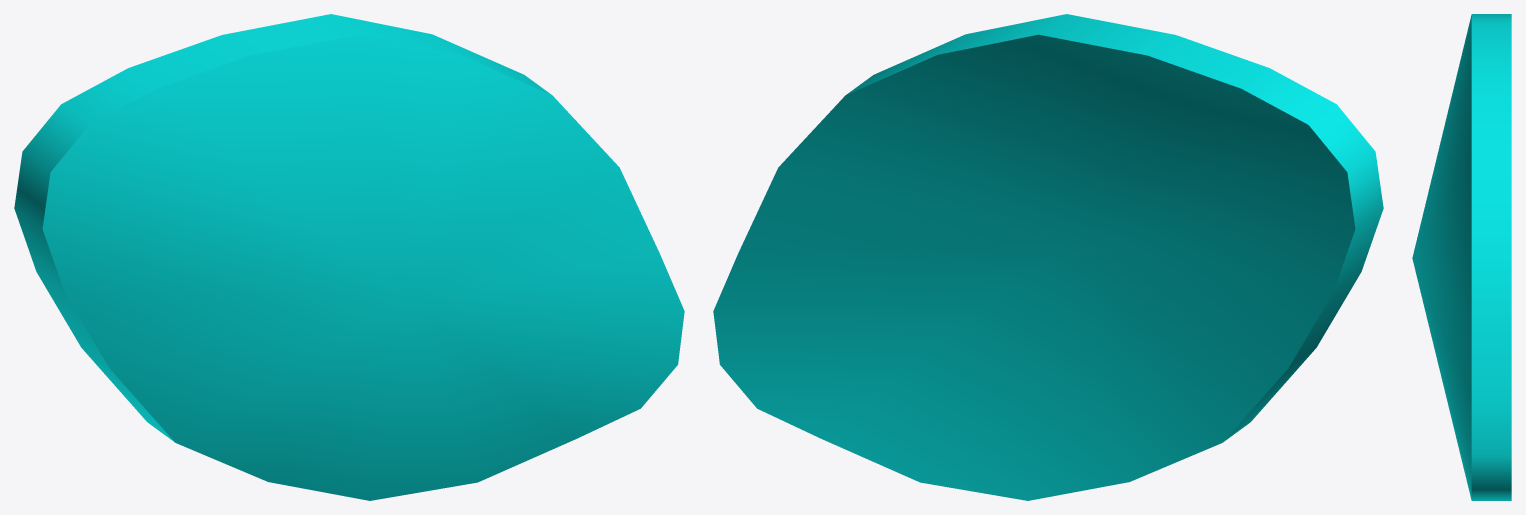
The model's file is Hard_Spinner_brade1.fbx.
3 renders of one model, left to right at view 1: azimuth 30°, elevation 25°; view 2: azimuth 150°, elevation 25°; view 3: azimuth 270°, elevation 25°, orthographic. The views are drawn at different scales.
Visible parts, largest first — view 1: polySurface412; view 2: polySurface412; view 3: polySurface412.
Part boxes in pixels (bbox=[...]): polySurface412: bbox=[14, 14, 684, 500]; polySurface412: bbox=[713, 14, 1383, 500]; polySurface412: bbox=[1412, 14, 1511, 500].
Bounding box in the file's own units: 0.023 × 0.0165 × 0.00434.
